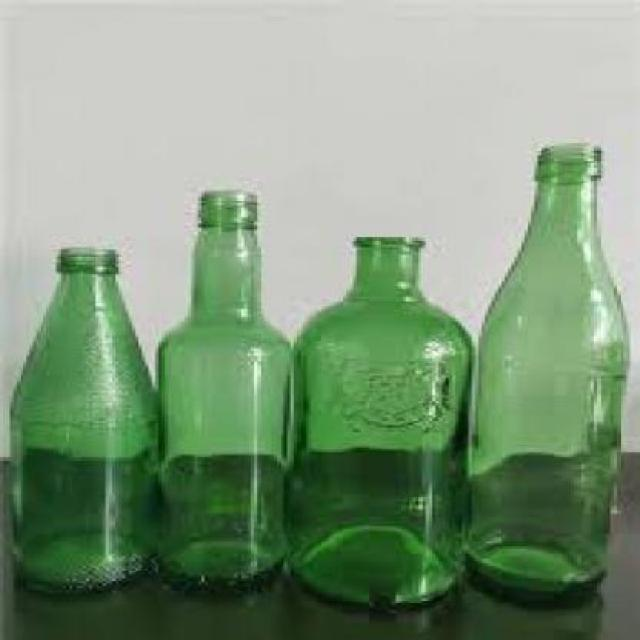kaca: (466, 142, 628, 596), (288, 237, 469, 606), (155, 191, 291, 583), (8, 248, 149, 588)
